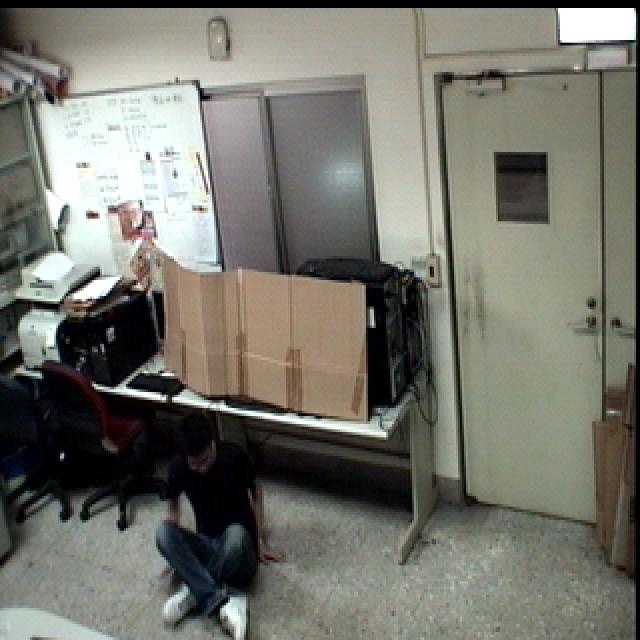sit: (143, 406, 293, 640)
